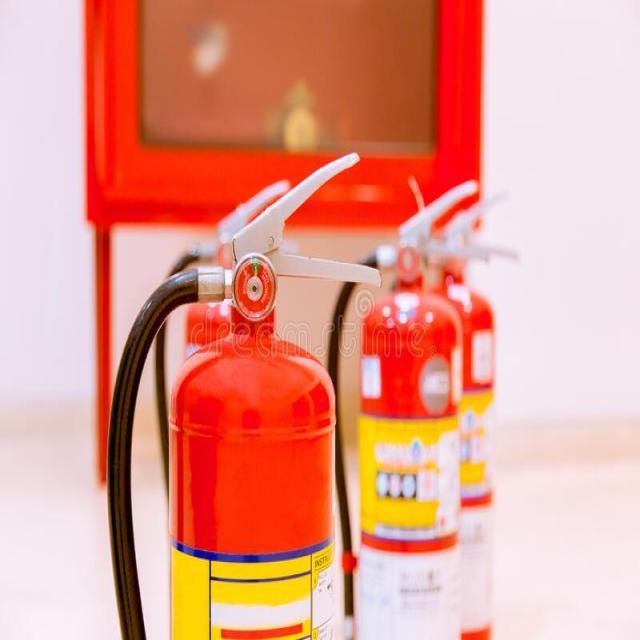fire_extinguisher: (102, 142, 383, 638), (319, 174, 490, 639), (369, 174, 527, 639)
